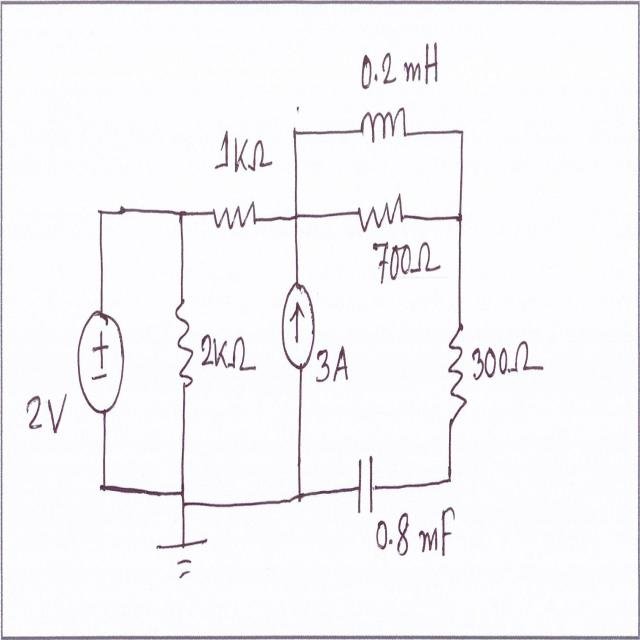capacitor: (351, 448, 378, 524)
current_source: (277, 270, 318, 378)
ground: (154, 533, 210, 583)
inductor: (353, 100, 419, 153)
resistor: (445, 305, 471, 443), (349, 190, 414, 238), (205, 194, 265, 244), (172, 282, 196, 399)
voltage_source: (75, 305, 128, 433)
